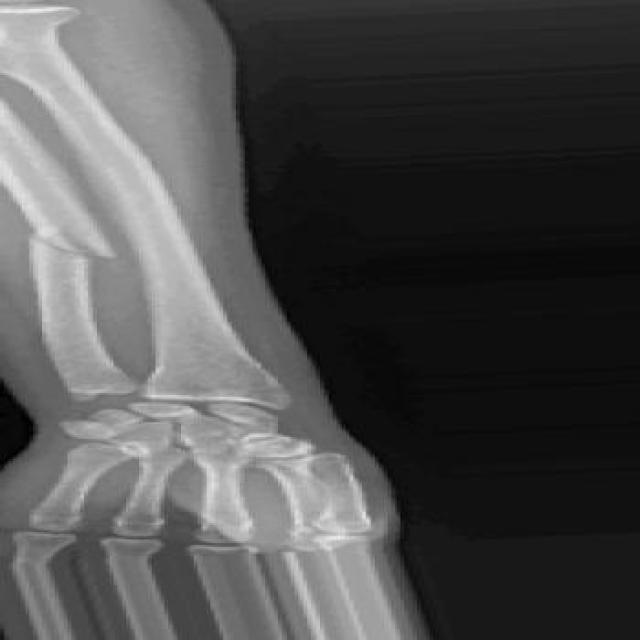Fracture: (10, 220, 116, 259)
